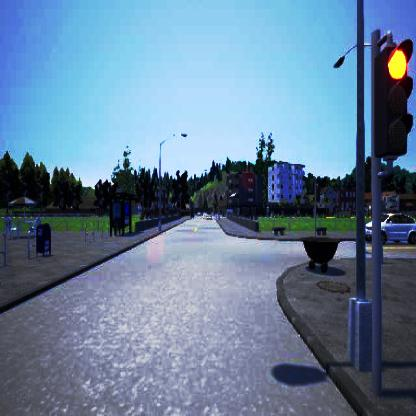vehicle: (364, 209, 415, 243)
